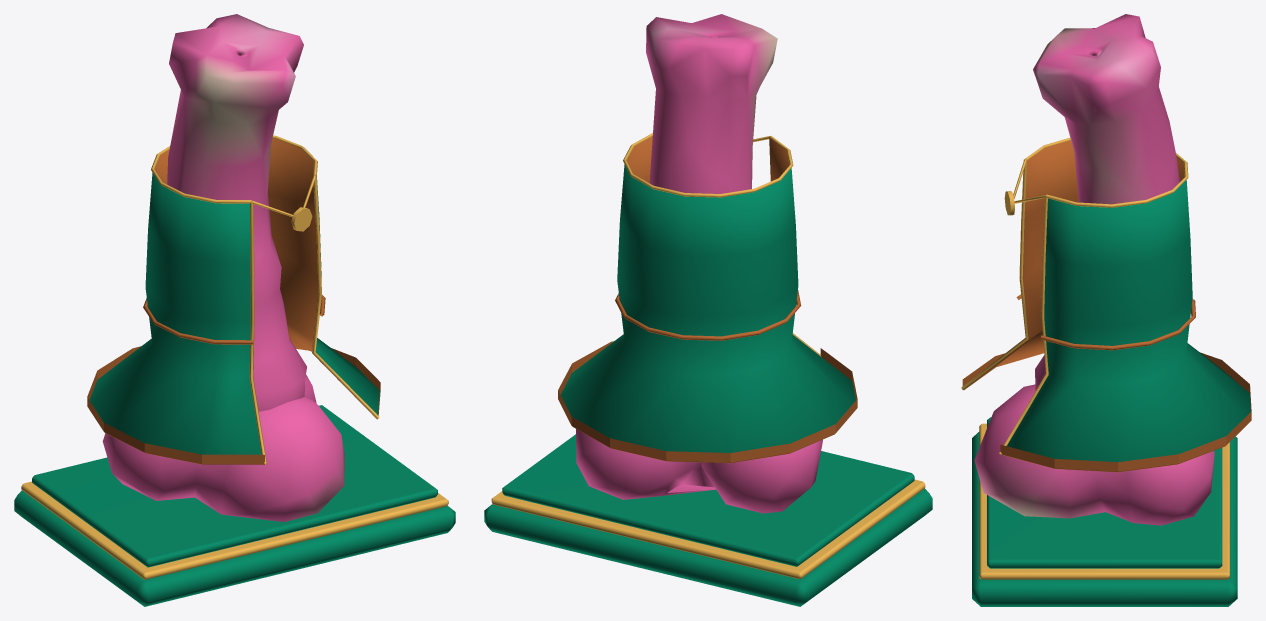
The model's file is chess.set.velvet-court.lod1.glb.
3 views of the same model, side by side, from view 1: azimuth 30°, elevation 25°; view 2: azimuth 150°, elevation 25°; view 3: azimuth 270°, elevation 25° (orthographic).
Parts seen in each view (by area): view 1: knight, distance_cloth, stand_top, stand_base, stand_gold_band, distance_lined_hem, distance_gold_binding.001, distance_gold_binding.002, distance_gold_binding, distance_sash; view 2: distance_cloth, knight, stand_top, stand_base, stand_gold_band, distance_lined_hem, distance_sash, distance_gold_binding; view 3: distance_cloth, knight, stand_top, stand_base, stand_gold_band, distance_lined_hem, distance_gold_binding.001, distance_gold_binding.002, distance_sash, distance_gold_binding.
Part boxes in pixels (box(x1,y1,x2,y2)): knight: box(102, 14, 344, 521); distance_cloth: box(89, 138, 379, 464); stand_top: box(32, 405, 437, 567); stand_base: box(14, 490, 455, 606); stand_gold_band: box(21, 481, 448, 579); distance_lined_hem: box(87, 346, 380, 463); distance_gold_binding.001: box(249, 201, 266, 464); distance_gold_binding.002: box(312, 176, 379, 419); distance_gold_binding: box(151, 135, 317, 203); distance_sash: box(143, 295, 325, 344); distance_cloth: box(560, 136, 855, 463); knight: box(576, 14, 822, 513); stand_top: box(502, 434, 914, 566); stand_base: box(484, 488, 932, 606); stand_gold_band: box(491, 479, 925, 578); distance_lined_hem: box(558, 341, 857, 462); distance_sash: box(615, 290, 801, 340); distance_gold_binding: box(623, 133, 793, 197); distance_cloth: box(964, 140, 1250, 472); knight: box(974, 14, 1214, 525); stand_top: box(987, 417, 1222, 568); stand_base: box(972, 432, 1237, 606); stand_gold_band: box(979, 423, 1229, 579); distance_lined_hem: box(962, 352, 1251, 471); distance_gold_binding.001: box(961, 160, 1028, 390); distance_gold_binding.002: box(999, 196, 1048, 454); distance_sash: box(1016, 294, 1195, 350); distance_gold_binding: box(1024, 137, 1188, 207).
Bounding box in the file's own units: 0.5111 × 0.75 × 0.3987.
